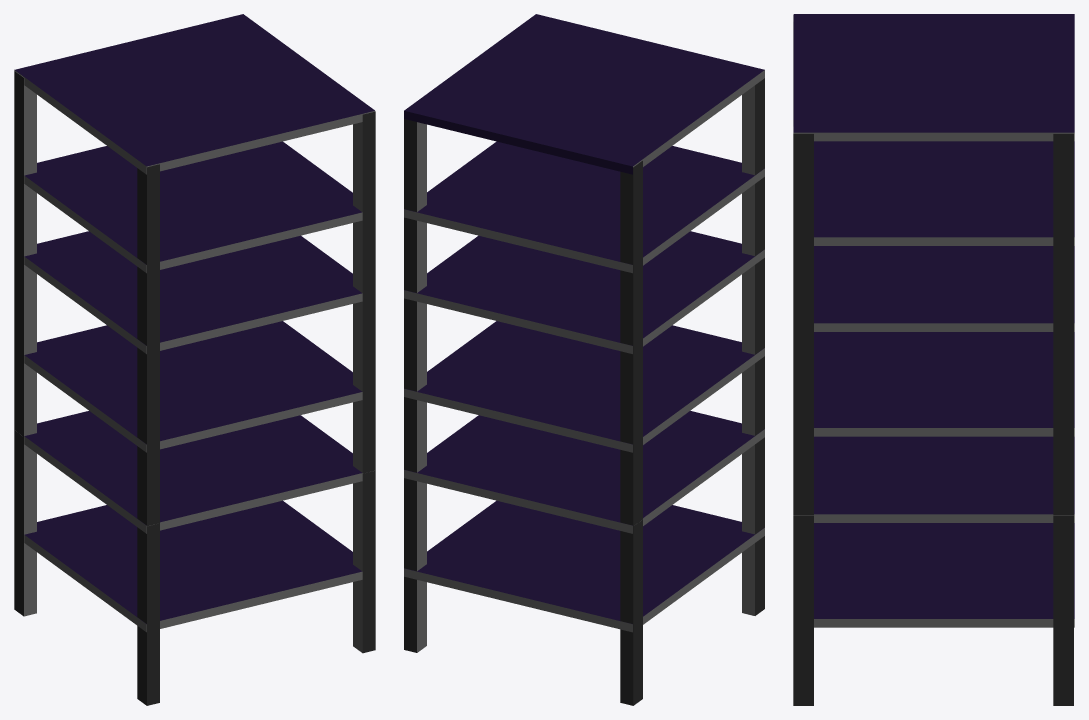
File: Shelf.fbx
3 renders of one model, left to right at view 1: azimuth 30°, elevation 25°; view 2: azimuth 150°, elevation 25°; view 3: azimuth 270°, elevation 25°, orthographic. The views are drawn at different scales.
Visible parts, largest first — view 1: Shelf; view 2: Shelf; view 3: Shelf.
Part boxes in pixels (x1=…): Shelf: x1=14, y1=14, x2=375, y2=705; Shelf: x1=404, y1=14, x2=764, y2=705; Shelf: x1=793, y1=14, x2=1074, y2=705.
Bounding box in the file's own units: 1801 × 4046 × 1798.
